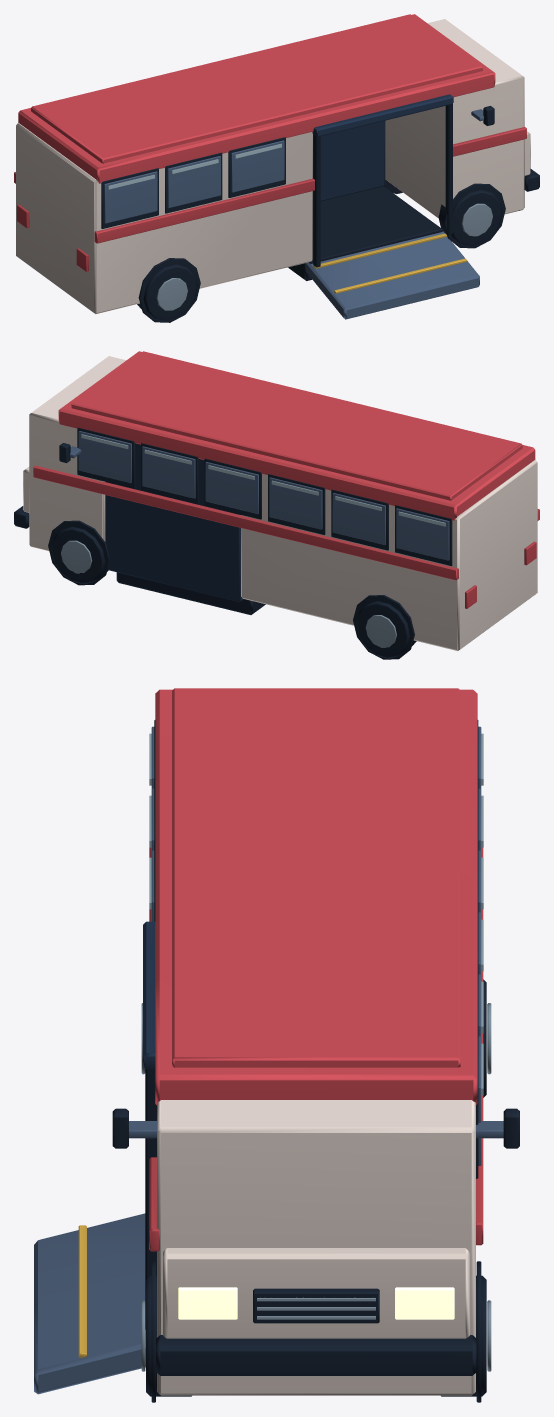
File: minibus.glb
The picture shows the model from 3 angles, top to bottom: view 1: azimuth 30°, elevation 25°; view 2: azimuth 150°, elevation 25°; view 3: azimuth 270°, elevation 25°; orthographic projection. The views are drawn at different scales.
Visible parts, largest first — view 1: minibus; view 2: minibus; view 3: minibus.
Boxes of the visible parts, x1,y1,x2,y2 form: minibus: [14, 14, 539, 322]; minibus: [14, 351, 539, 659]; minibus: [34, 688, 519, 1402].
Size of the model in its own units: 6.79 by 2.7 by 3.18.
